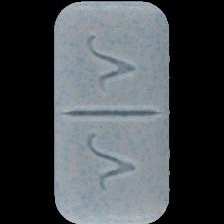0603-3746: (0, 0, 224, 224)
